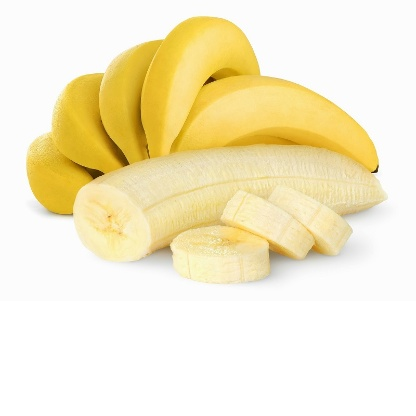chuoi: (21, 28, 397, 297)
